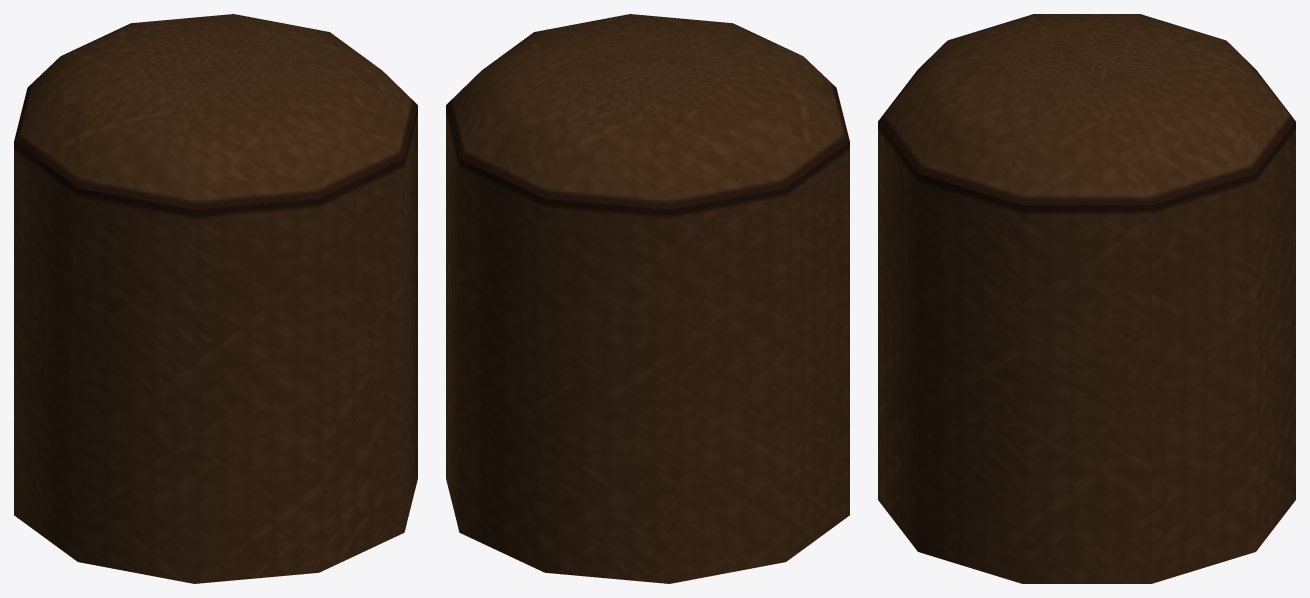
The model's file is Minipuff.fbx.
The picture shows the model from 3 angles, left to right: view 1: azimuth 30°, elevation 25°; view 2: azimuth 150°, elevation 25°; view 3: azimuth 270°, elevation 25°; orthographic projection.
Visible parts, largest first — view 1: minipuff; view 2: minipuff; view 3: minipuff.
Part boxes in pixels (<box>): minipuff: <box>14,14,417,583</box>; minipuff: <box>446,14,849,583</box>; minipuff: <box>878,14,1295,583</box>.
Size of the model in its own units: 34.8 by 42.43 by 36.59.
